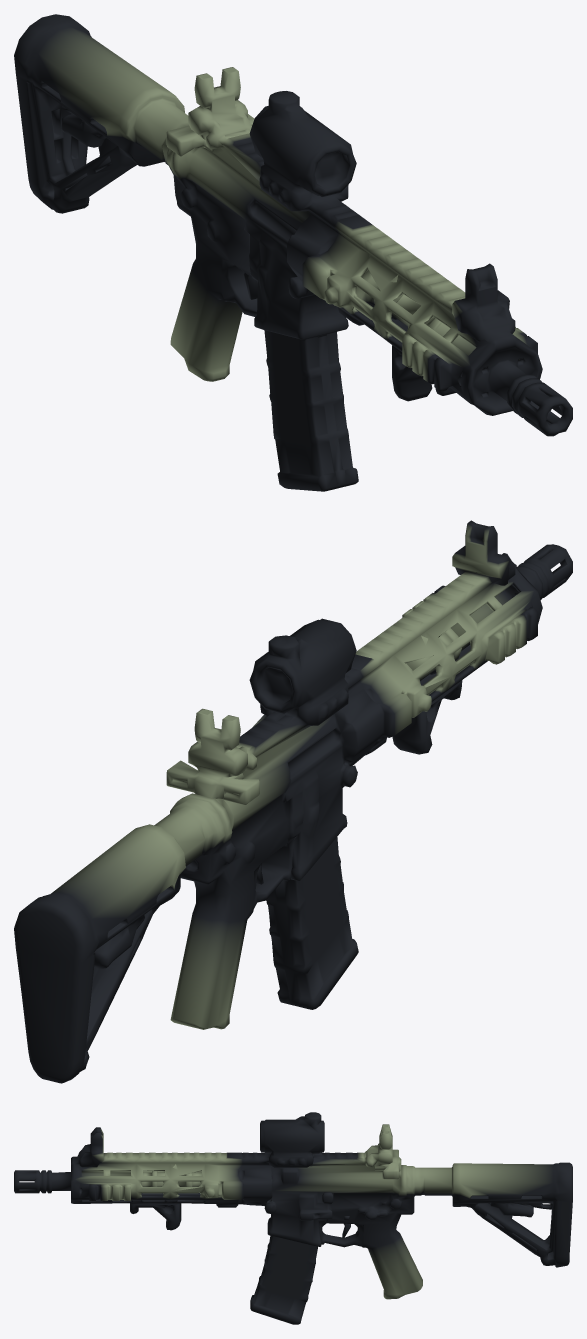
The model's file is carbine.glb.
The picture shows the model from 3 angles, top to bottom: view 1: azimuth 30°, elevation 25°; view 2: azimuth 150°, elevation 25°; view 3: azimuth 270°, elevation 25°; orthographic projection. The views are drawn at different scales.
Parts seen in each view (by area): view 1: base_model_path; view 2: base_model_path; view 3: base_model_path.
Boxes of the visible parts, x1,y1,x2,y2 form: base_model_path: [14, 14, 572, 491]; base_model_path: [14, 520, 572, 1083]; base_model_path: [14, 1112, 572, 1324].
Bounding box in the file's own units: 0.1155 × 0.4051 × 1.
